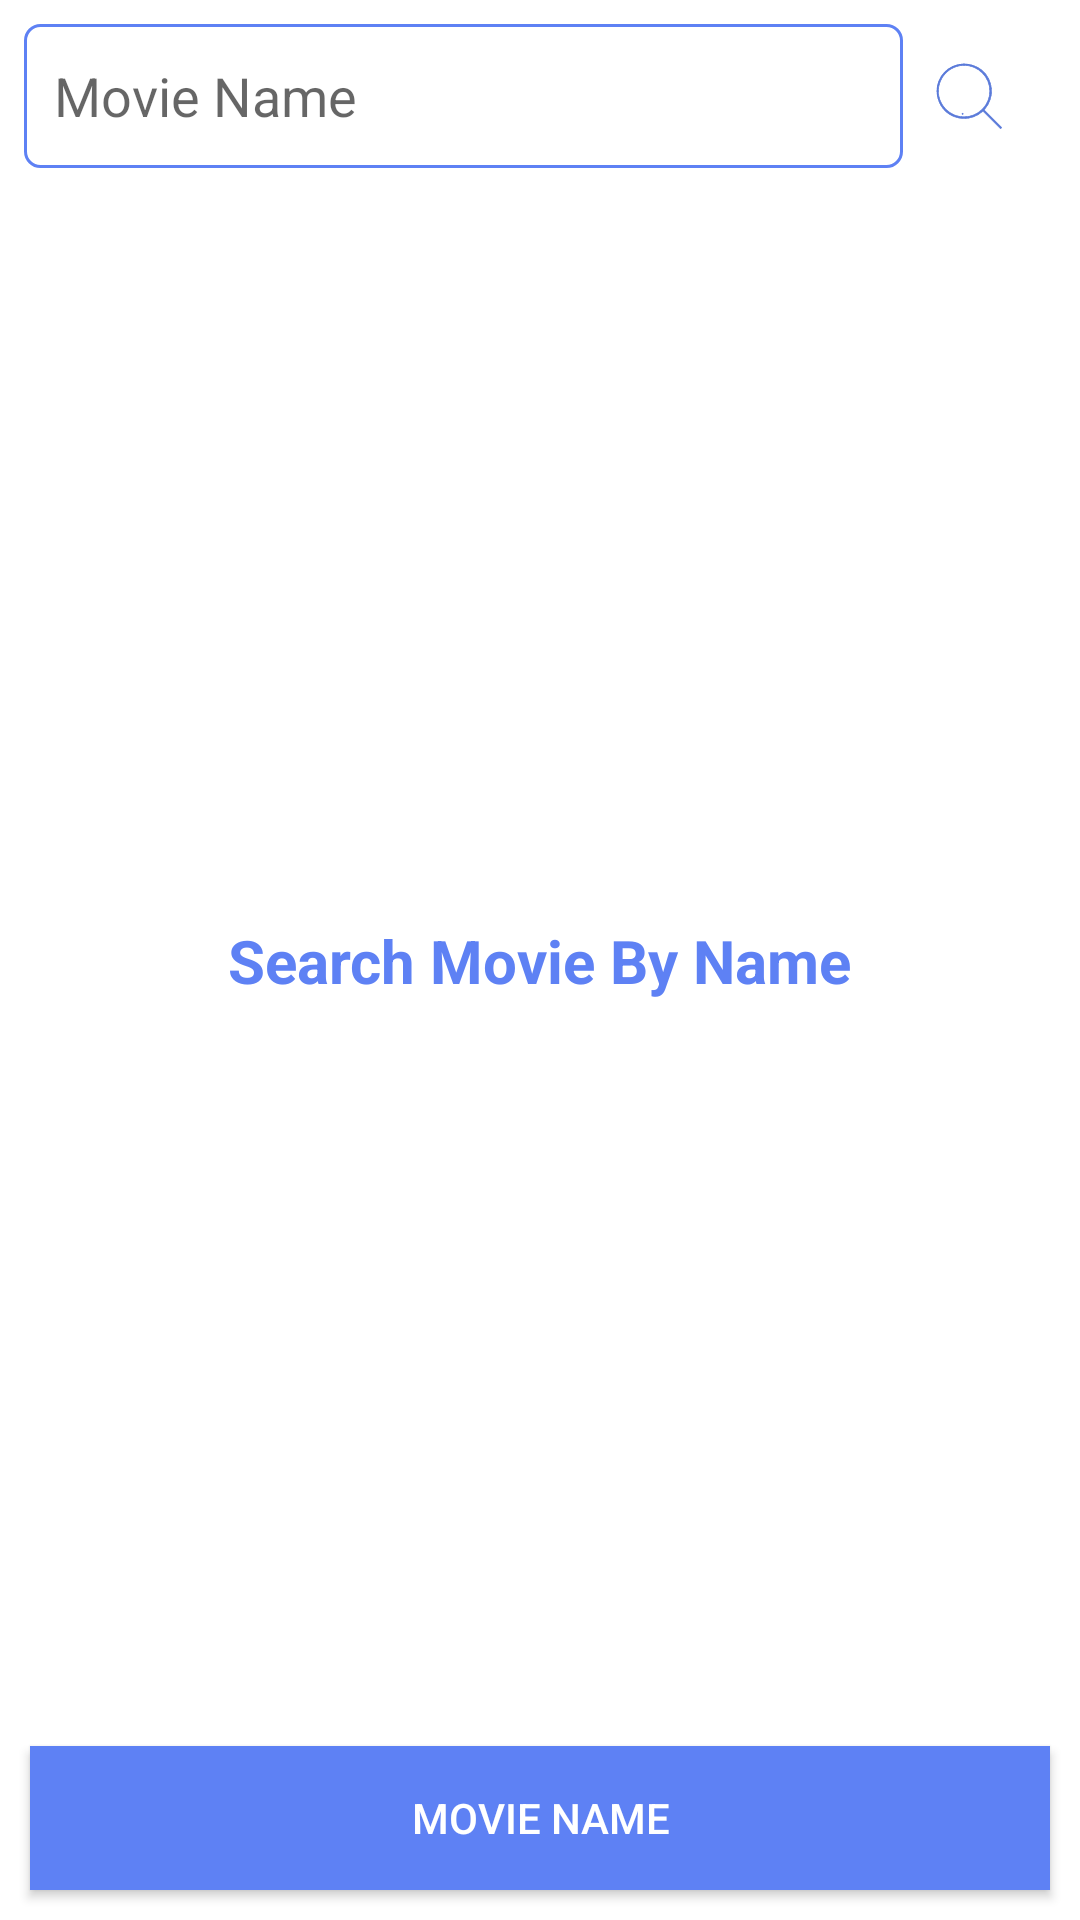

Named icons in this screenshot (1080w x 1920h) and their centers, (x,y):
search: (969,96)
